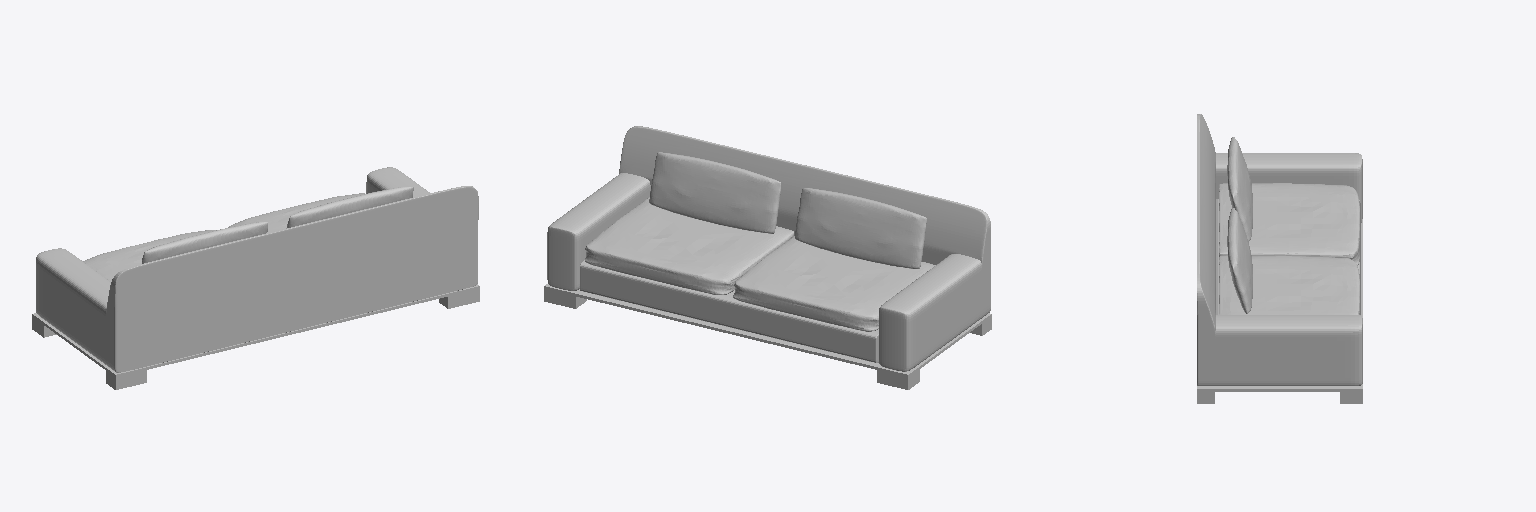
File: divano.obj
The picture shows the model from 3 angles: view 1: azimuth 30°, elevation 25°; view 2: azimuth 150°, elevation 25°; view 3: azimuth 270°, elevation 25°; orthographic projection.
Visible parts, largest first — view 1: Cube.014, Plane.001, Cube.017, Cube.018, Cube.016, Cube.015; view 2: Cube.014, Cube.015, Cube.016, Cube.018, Cube.017, Plane.001; view 3: Cube.014, Cube.016, Cube.015, Cube.018, Plane.001, Cube.017.
Part boxes in pixels (left/top/right/bottom): Cube.014: left=36, top=167, right=478, bottom=372; Plane.001: left=32, top=284, right=479, bottom=389; Cube.017: left=142, top=222, right=267, bottom=263; Cube.018: left=287, top=187, right=413, bottom=227; Cube.016: left=83, top=230, right=215, bottom=281; Cube.015: left=228, top=193, right=364, bottom=232; Cube.014: left=547, top=126, right=990, bottom=371; Cube.015: left=585, top=197, right=793, bottom=294; Cube.016: left=733, top=236, right=935, bottom=331; Cube.018: left=649, top=152, right=780, bottom=233; Cube.017: left=795, top=188, right=926, bottom=268; Plane.001: left=544, top=284, right=991, bottom=389; Cube.014: left=1197, top=114, right=1362, bottom=385; Cube.016: left=1219, top=183, right=1359, bottom=265; Cube.015: left=1219, top=256, right=1359, bottom=314; Cube.018: left=1227, top=208, right=1252, bottom=313; Plane.001: left=1197, top=219, right=1362, bottom=403; Cube.017: left=1227, top=137, right=1252, bottom=241.
Size of the model in its own units: 1.87 by 0.5828 by 0.7416.